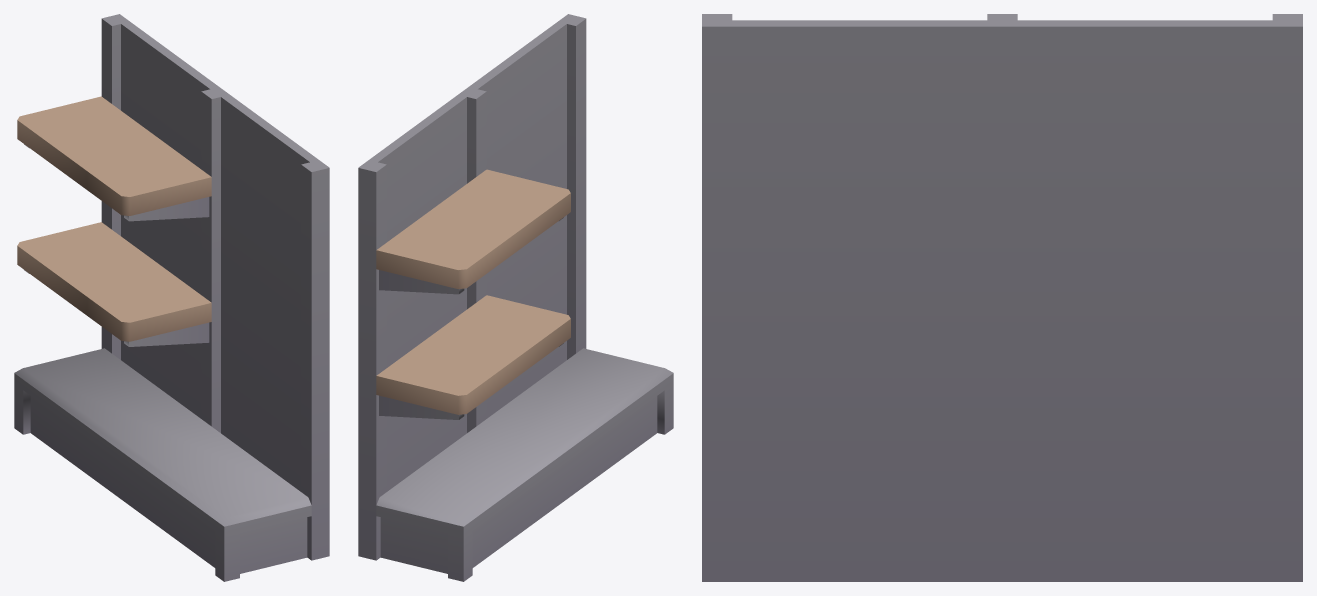
File: retail-shelf-wide-low-half.glb
3 views of the same model, side by side, from view 1: azimuth 30°, elevation 25°; view 2: azimuth 150°, elevation 25°; view 3: azimuth 270°, elevation 25° (orthographic). The views are drawn at different scales.
Visible parts, largest first — view 1: retail-shelf-wide-low-half; view 2: retail-shelf-wide-low-half; view 3: retail-shelf-wide-low-half.
Part boxes in pixels (left/top/right/bottom): retail-shelf-wide-low-half: left=14, top=14, right=329, bottom=581; retail-shelf-wide-low-half: left=358, top=14, right=673, bottom=581; retail-shelf-wide-low-half: left=702, top=14, right=1302, bottom=581.
Bounding box in the file's own units: 0.29 × 1.02 × 1.
